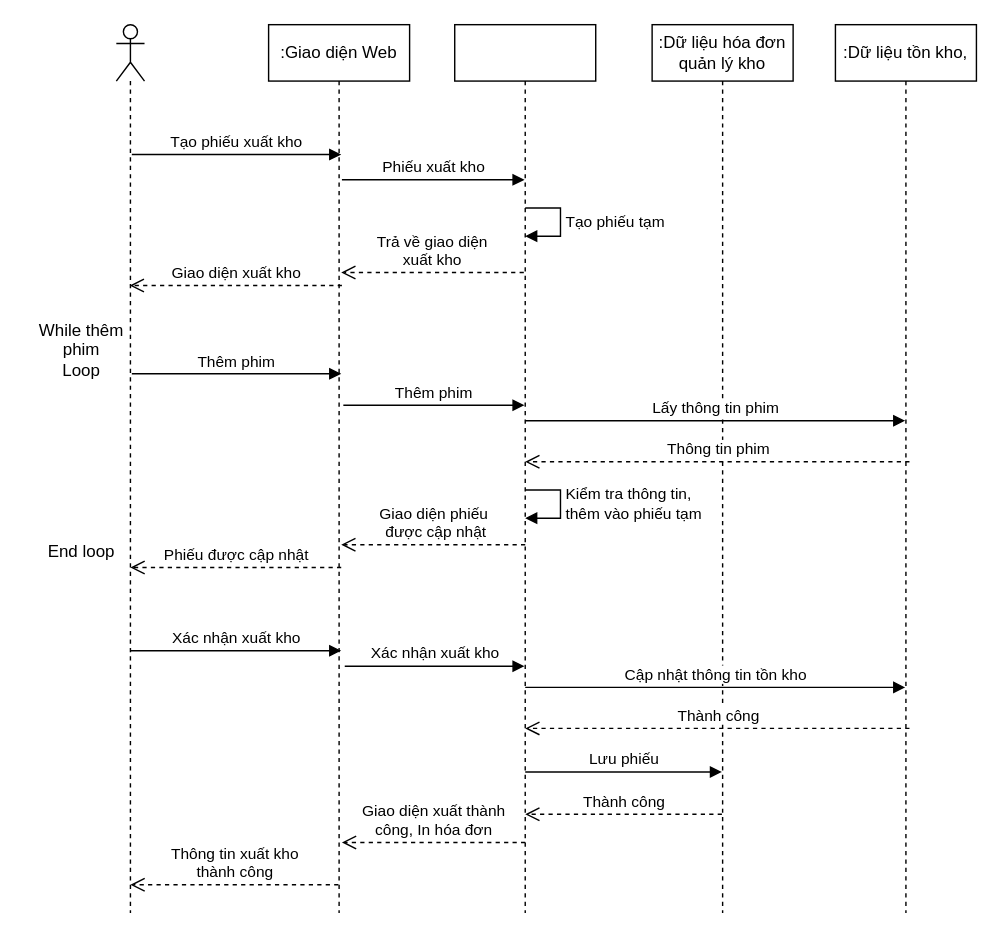
The diagram is 1001 pixels wide and 938 high, and some of its shapes have lost their labels. The shapes that lost their labels are listed below. From the top down, each one's box as (x1, y1, x2, y2) in pixels, then its label:
(115, 23, 145, 913): Nhân viên
(453, 23, 596, 913): :Máy chủ
